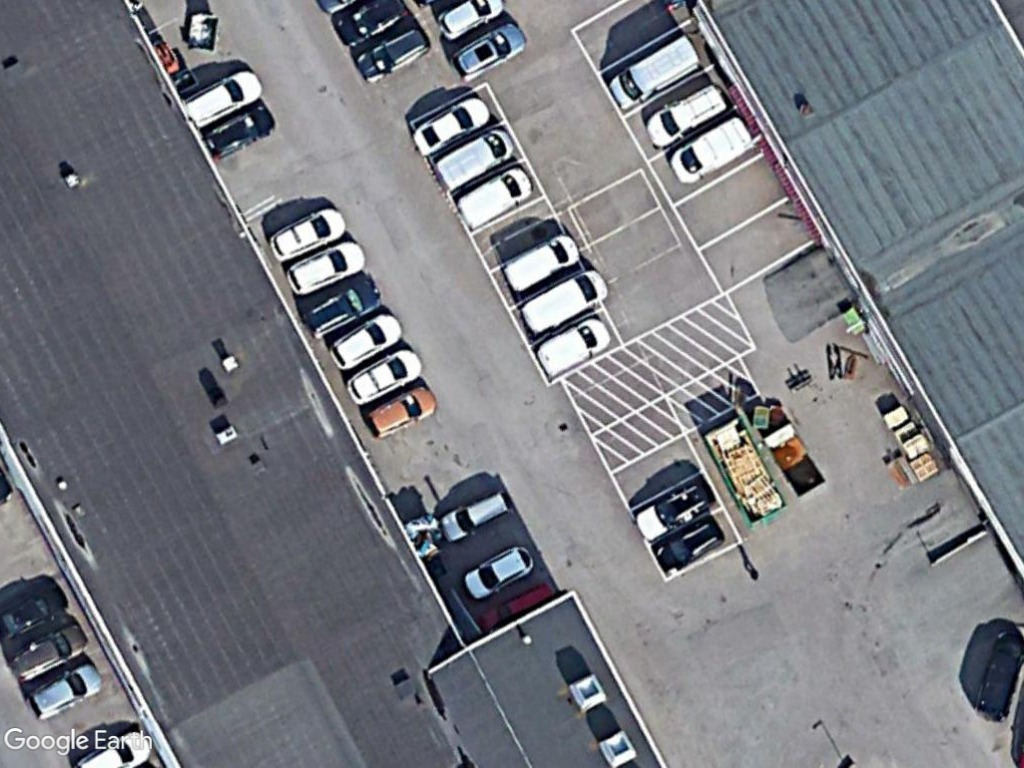car: (643, 81, 731, 153), (4, 620, 94, 687), (410, 92, 494, 159), (302, 276, 386, 342), (181, 69, 268, 131), (448, 19, 532, 82), (265, 204, 351, 265), (281, 237, 367, 298), (325, 310, 404, 375), (26, 658, 106, 722), (344, 346, 425, 409), (647, 515, 726, 579), (353, 22, 434, 84), (436, 486, 517, 547), (196, 103, 278, 163), (0, 581, 70, 647), (360, 384, 440, 441), (462, 543, 538, 603)
van: (605, 31, 705, 110), (518, 268, 614, 336), (531, 312, 613, 386), (671, 115, 755, 186), (454, 161, 536, 232), (500, 228, 585, 296), (434, 124, 516, 194)
